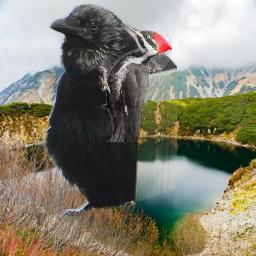Crow: (40, 2, 177, 218)
Woodpecker: (99, 21, 172, 142)
